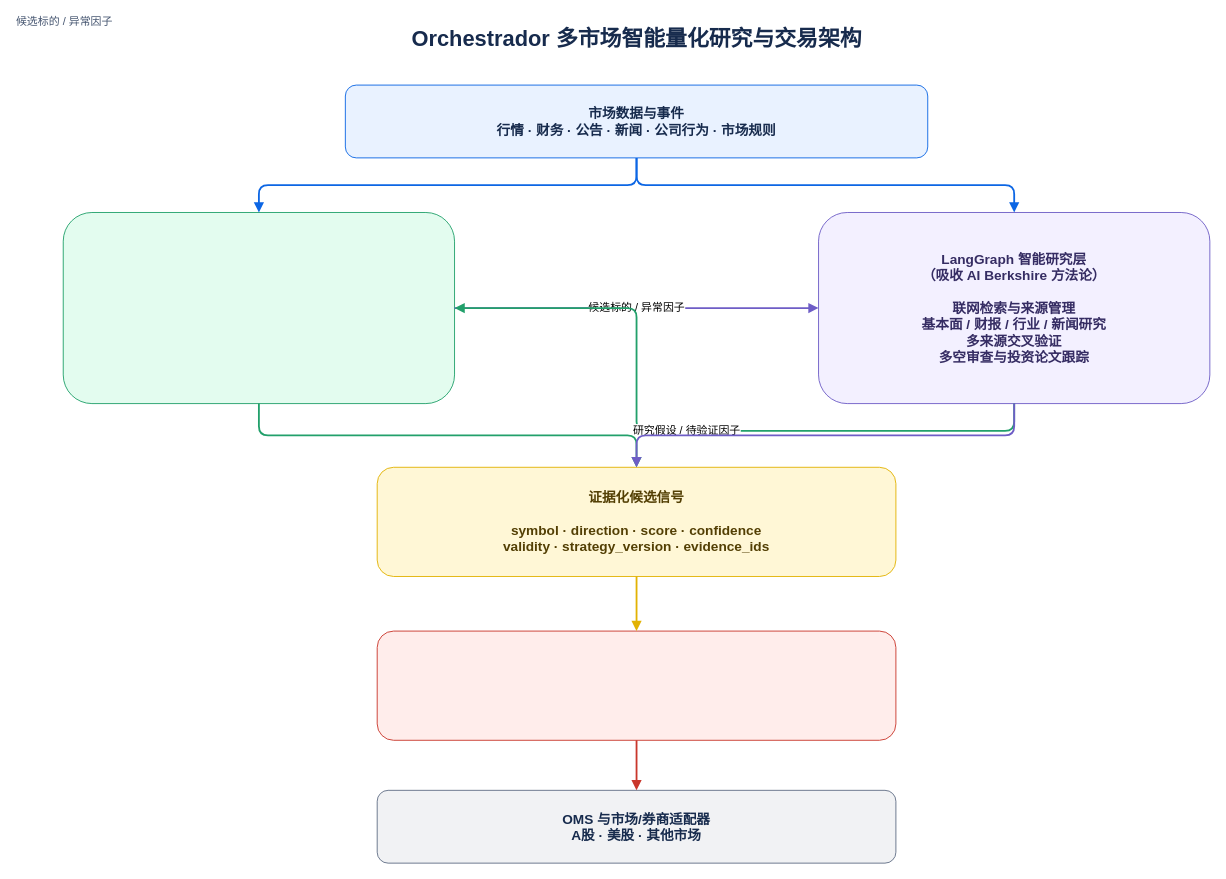
Some shapes in this 1226 by 879 pixel diagram are drawn without their labels. The shapes that lost their labels are listed below. From the top down, each one's centre as x and y in pixels, then its label:
the point at 258,308: 量化研究引擎（首期 Qlib） 股票池与因子计算 模型训练与收益预测 组合优化与回测 实验及版本管理
the point at 636,685: 确定性组合与风控 仓位 · 市场规则 · 数据新鲜度 回撤/损失限制 · 幂等检查 · 人工审批
